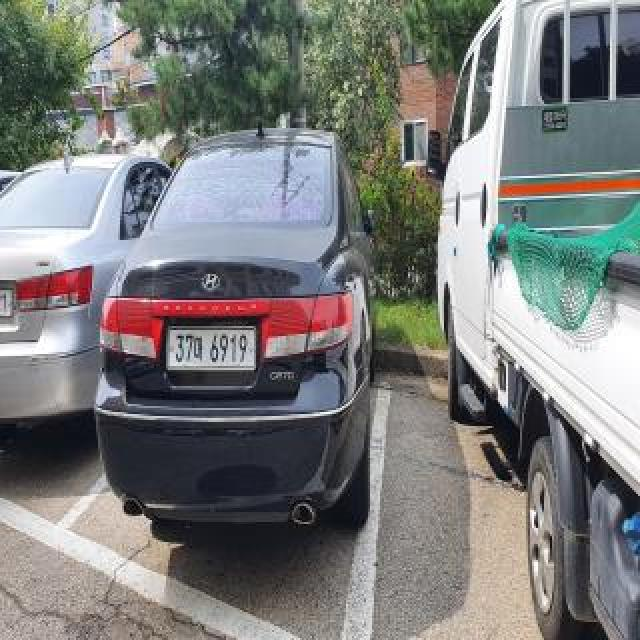car: (95, 126, 398, 554)
illegal_plate: (168, 322, 258, 382)
